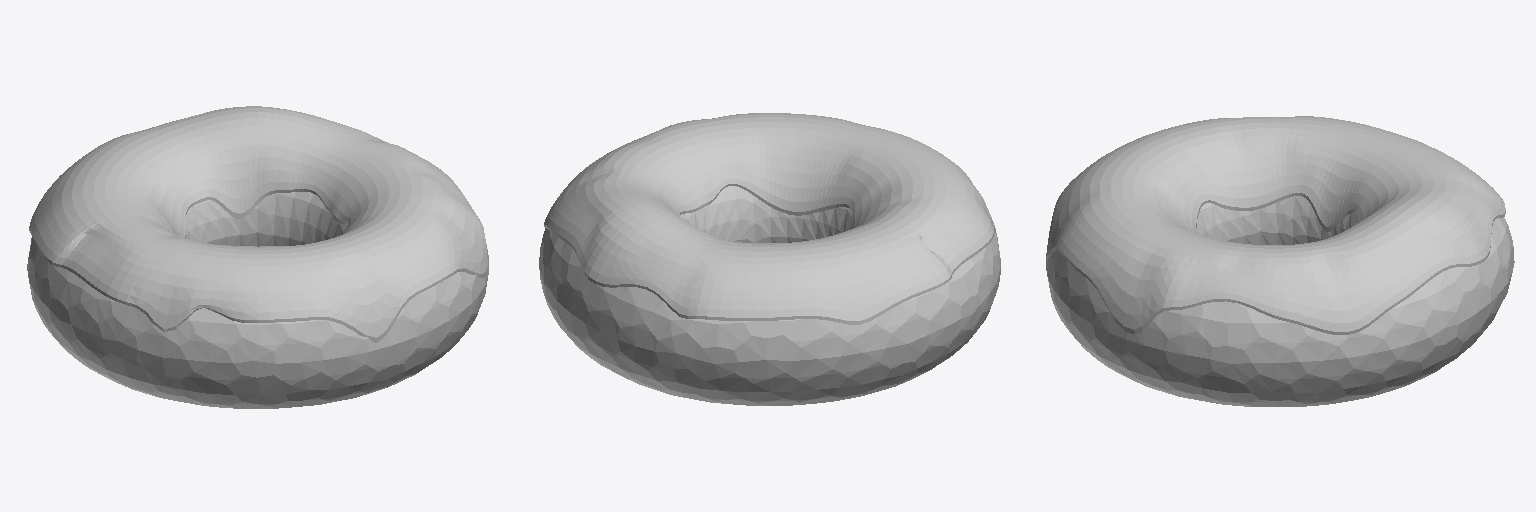
The model's file is donuts.obj.
3 views of the same model, side by side, from view 1: azimuth 30°, elevation 25°; view 2: azimuth 150°, elevation 25°; view 3: azimuth 270°, elevation 25° (orthographic).
Bounding box in the file's own units: 8.91 × 3.42 × 9.05.